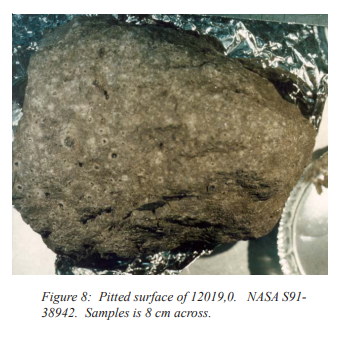Basalt: (12, 18, 312, 263)
